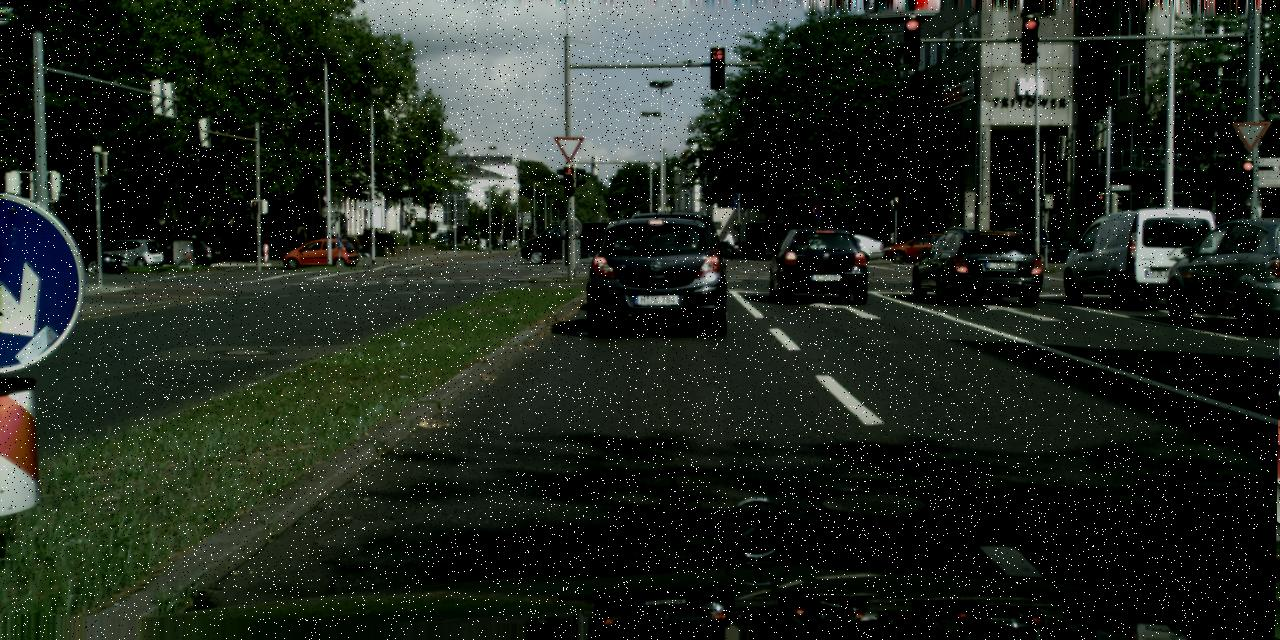ped: (528, 229, 538, 253), (724, 230, 734, 252), (351, 235, 360, 256), (497, 236, 502, 248)
